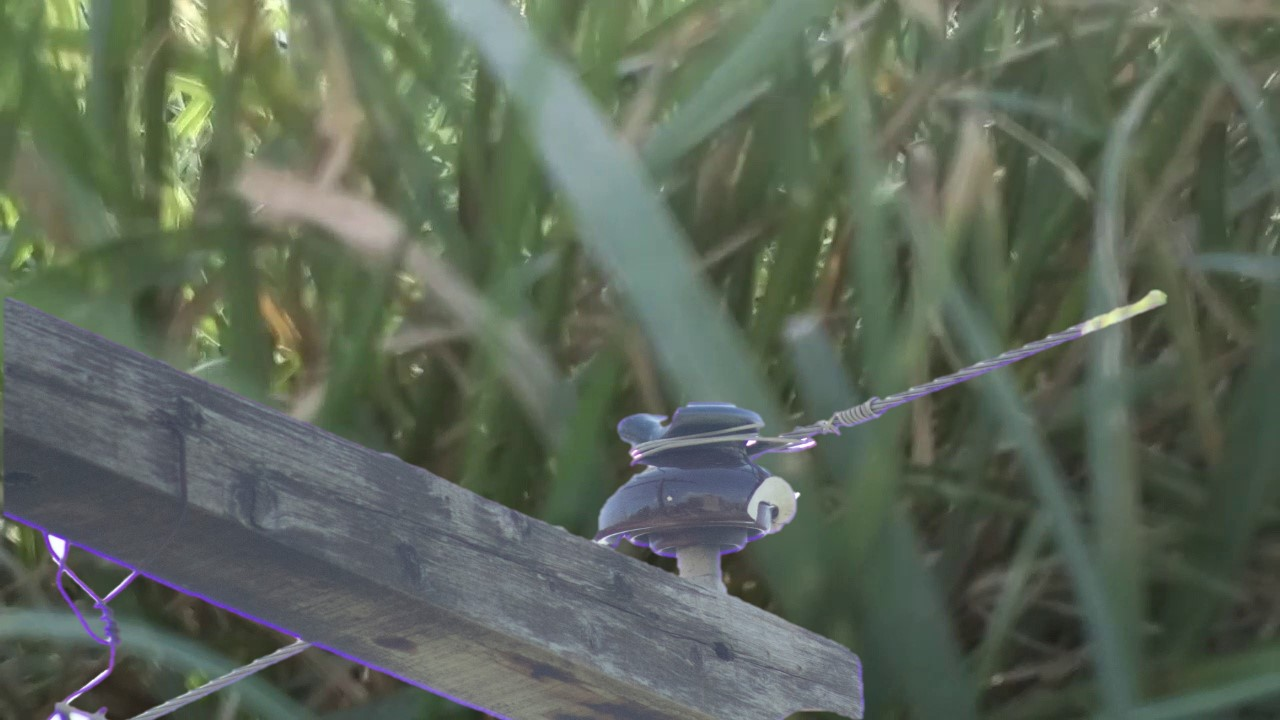defect_pin: (589, 388, 806, 566)
